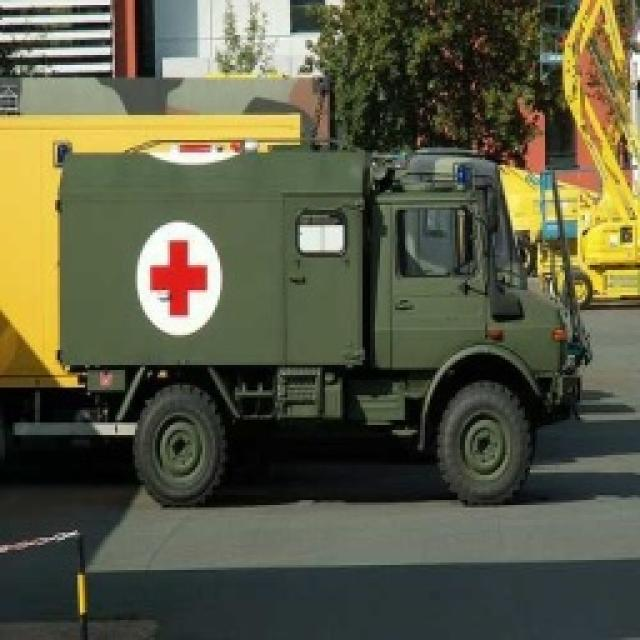emergency-vehicle: (59, 142, 581, 501)
